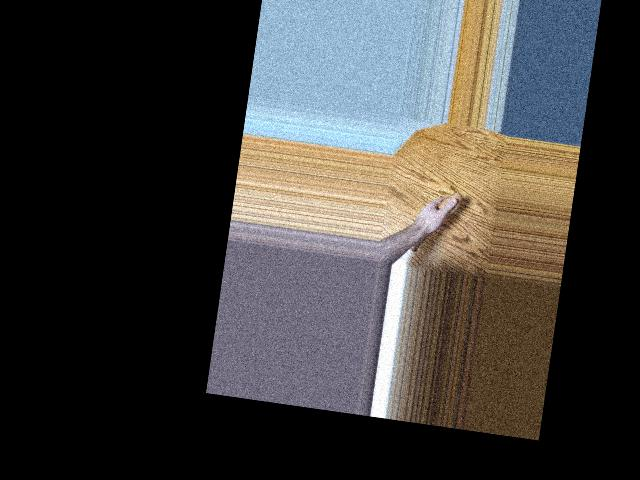sweet_potato: (407, 185, 462, 259)
